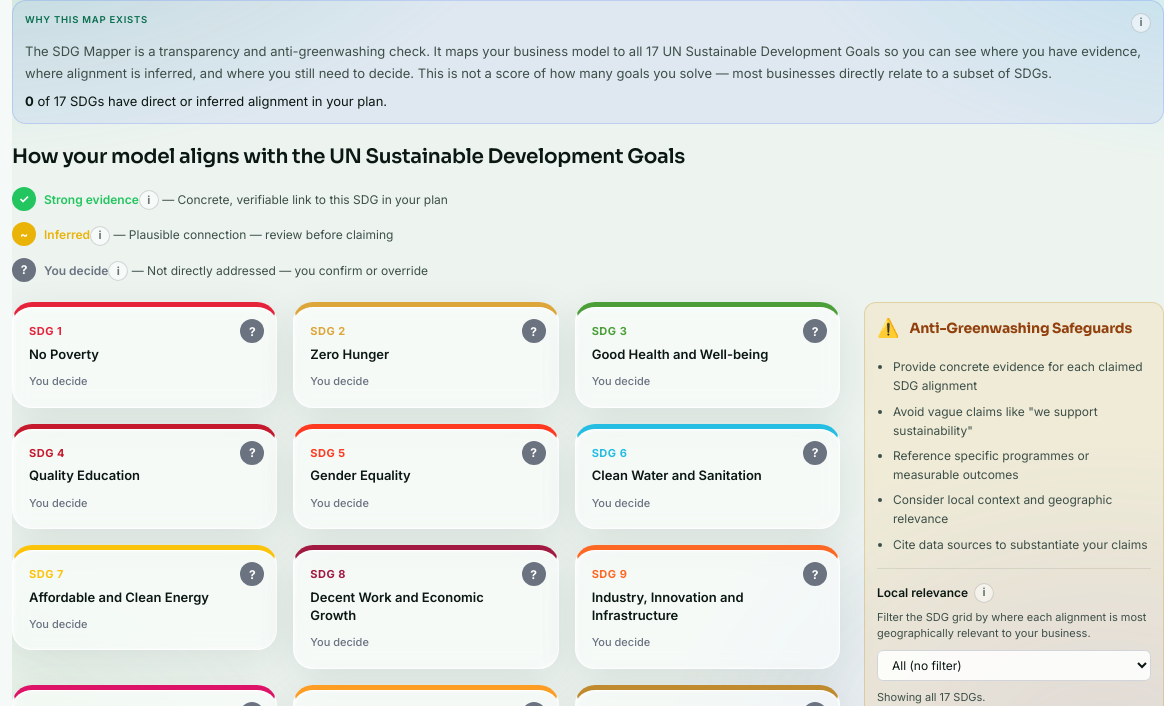
SDGMapperStep › shows non-alignment reason for undecided SDGs when expanded
Click the button with aria-label "SDG 1: No Poverty": (64, 354) [12,302,277,408]
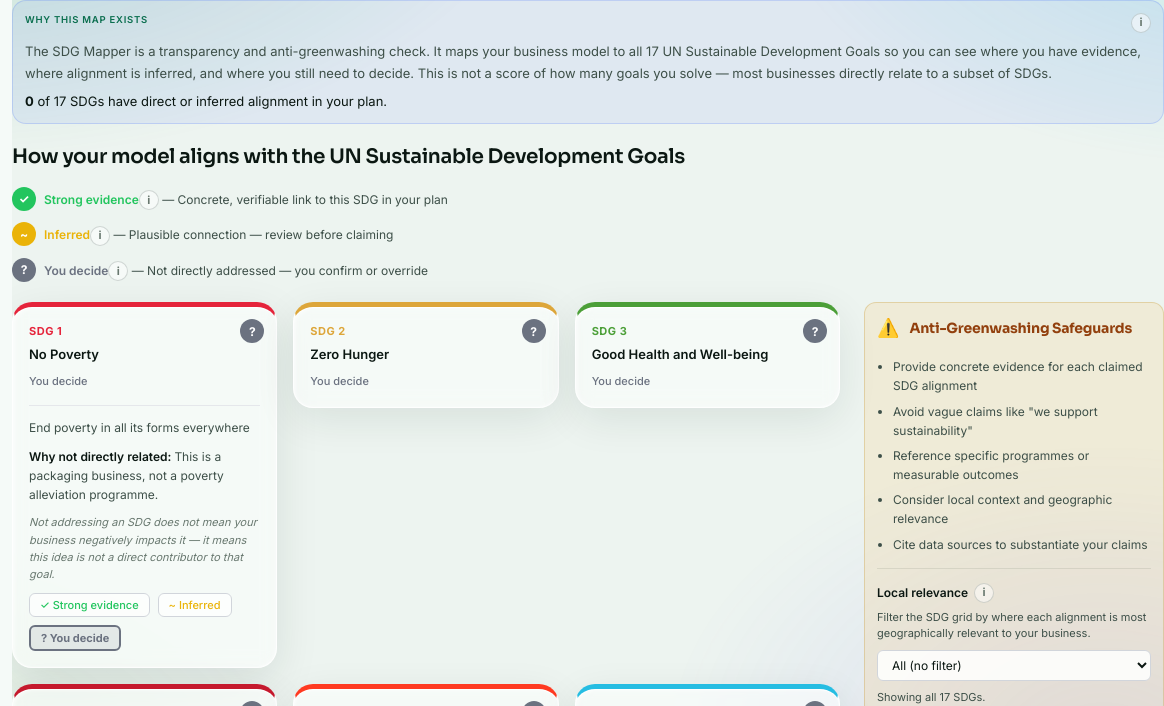
Expected: the text "Why not directly related:" is shown, [29,449,174,464]
Expected: the text "not a direct contributor" is shown, [29,516,257,581]
